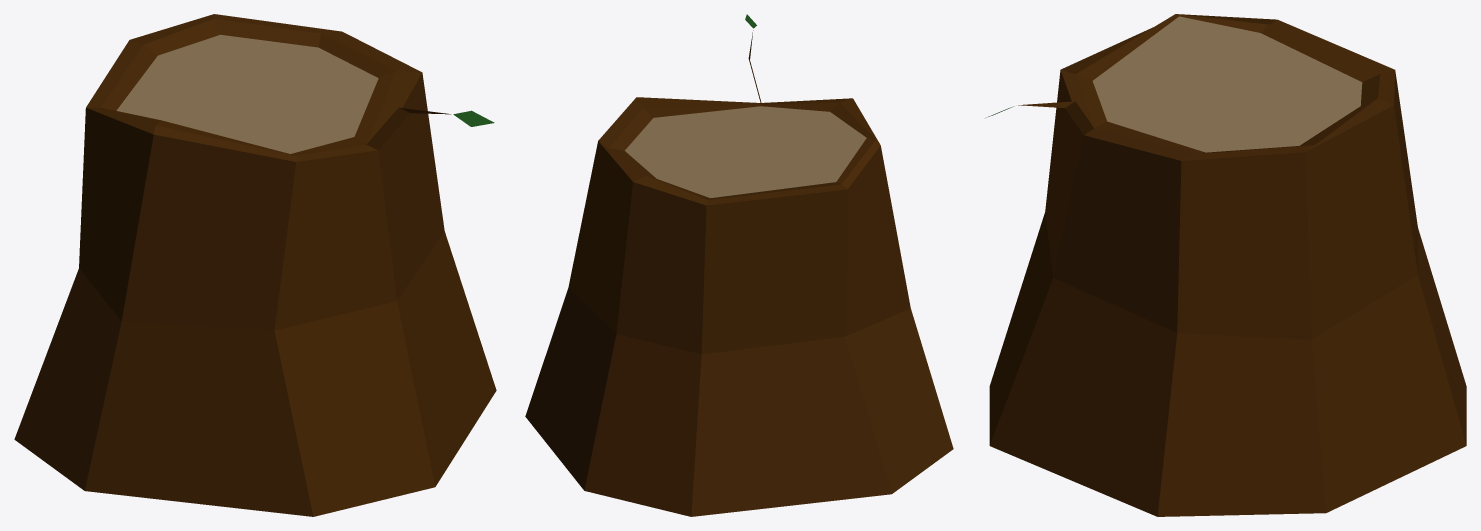
Rendered from stump2.fbx.
3 renders of one model, left to right at view 1: azimuth 30°, elevation 25°; view 2: azimuth 150°, elevation 25°; view 3: azimuth 270°, elevation 25°, orthographic. The views are drawn at different scales.
Parts seen in each view (by area): view 1: Stump2; view 2: Stump2; view 3: Stump2.
Part boxes in pixels (bbox=[...]): Stump2: bbox=[14, 14, 496, 516]; Stump2: bbox=[525, 14, 953, 516]; Stump2: bbox=[986, 14, 1466, 516].
Size of the model in its own units: 267 by 222 by 271.
